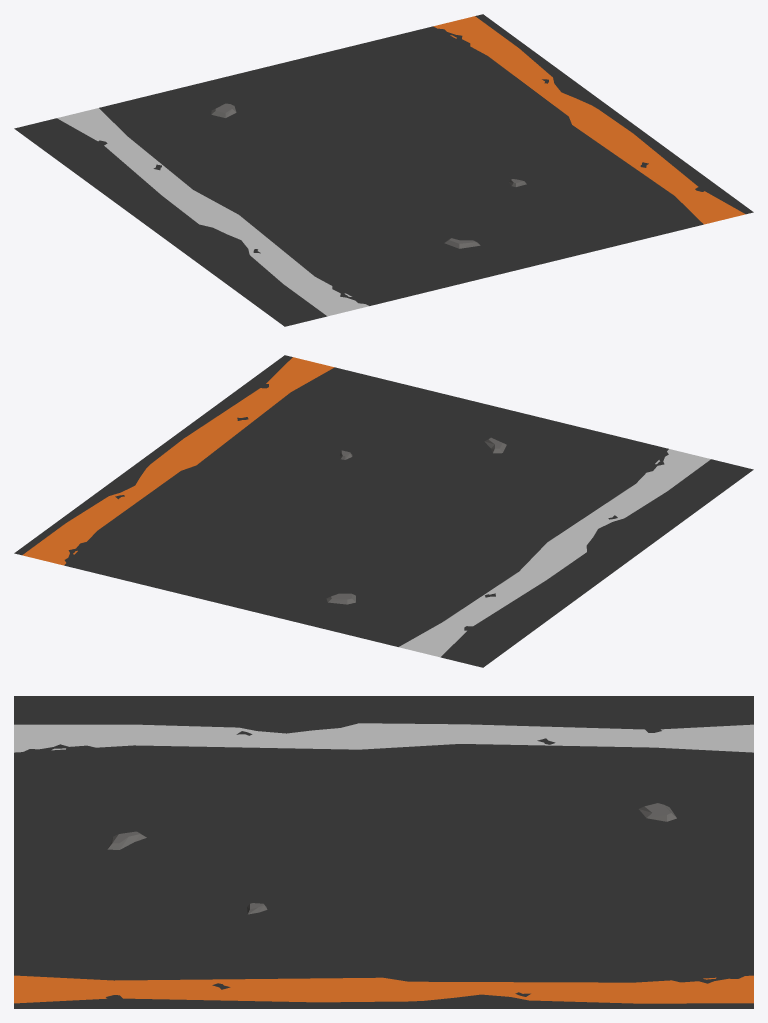
The model's file is Asphalt_10.FBX.
3 views of the same model, one above another, from view 1: azimuth 30°, elevation 25°; view 2: azimuth 150°, elevation 25°; view 3: azimuth 270°, elevation 25° (orthographic). The views are drawn at different scales.
Parts seen in each view (by area): view 1: Asphalt_10; view 2: Asphalt_10; view 3: Asphalt_10.
Boxes of the visible parts, x1,y1,x2,y2 form: Asphalt_10: (14, 14, 753, 326); Asphalt_10: (14, 355, 753, 667); Asphalt_10: (14, 696, 753, 1008).
Bounding box in the file's own units: 5 × 0.03 × 5.
